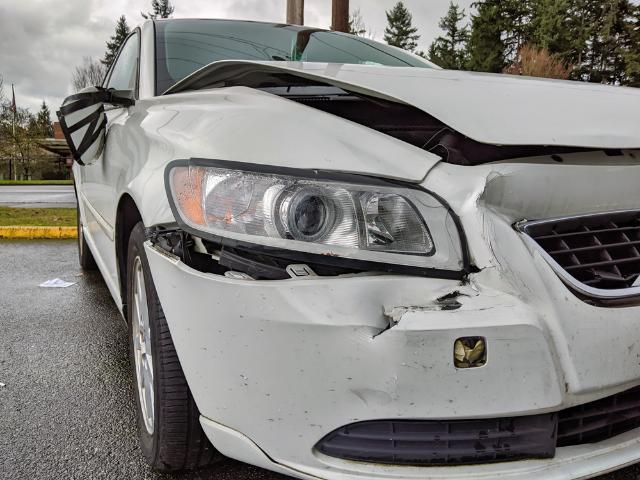crack: (372, 282, 475, 339)
dent: (476, 173, 545, 301), (358, 285, 392, 336)
dislocated part: (161, 59, 625, 170), (144, 217, 466, 289), (57, 85, 138, 168)
lamp broken: (166, 164, 464, 273)
no part: (454, 337, 487, 368)
